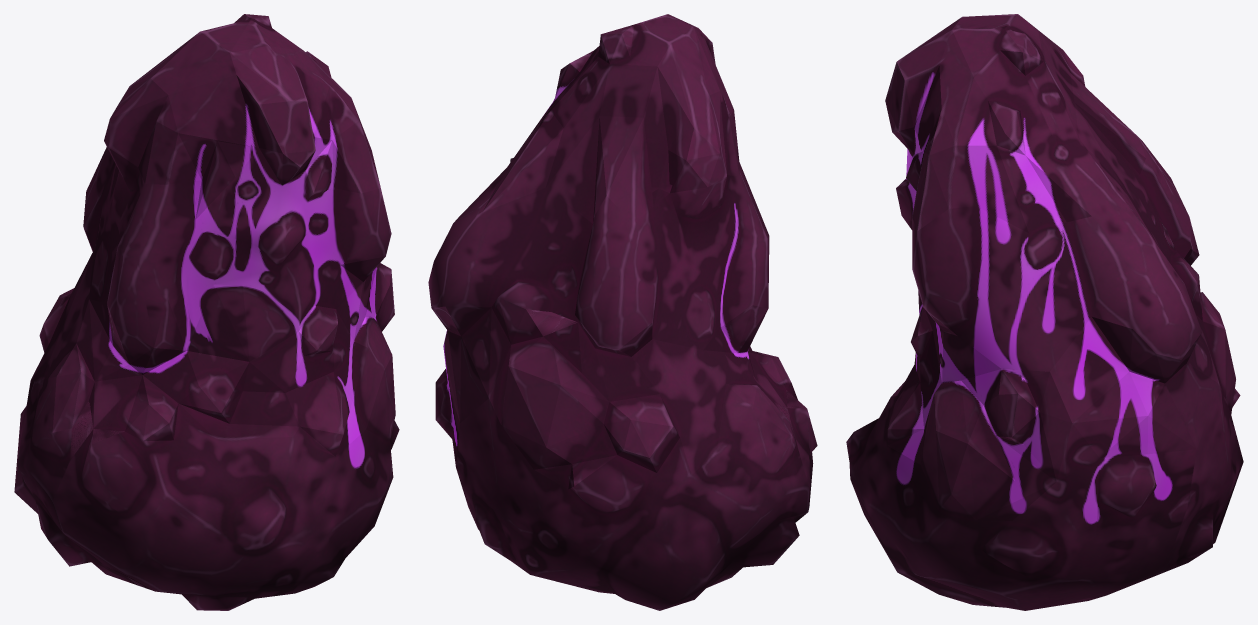
File: GooBreakable.fbx
3 renders of one model, left to right at view 1: azimuth 30°, elevation 25°; view 2: azimuth 150°, elevation 25°; view 3: azimuth 270°, elevation 25°, orthographic. The views are drawn at different scales.
Parts seen in each view (by area): view 1: GooBreakable; view 2: GooBreakable; view 3: GooBreakable.
Part boxes in pixels (left/top/right/bottom): GooBreakable: left=14, top=14, right=399, bottom=610; GooBreakable: left=428, top=14, right=817, bottom=610; GooBreakable: left=846, top=14, right=1243, bottom=610.
Size of the model in its own units: 1.48 by 2.29 by 1.46.
Materials: 2 (1 with a texture image).
